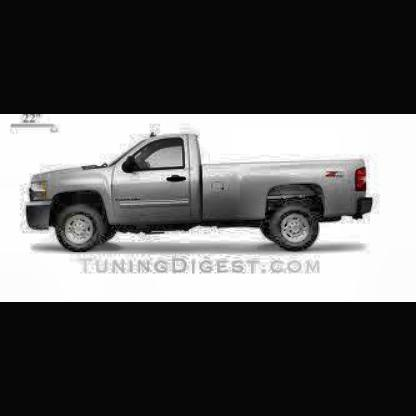Chevrolet Silverado 2500HD Regular Cab 2012: (26, 130, 377, 254)
